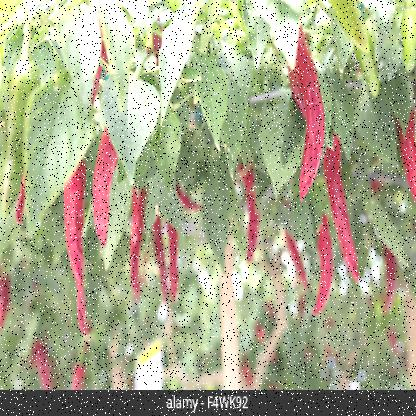chilli: (290, 24, 337, 214), (321, 129, 370, 297), (59, 152, 92, 336), (126, 181, 147, 305)
